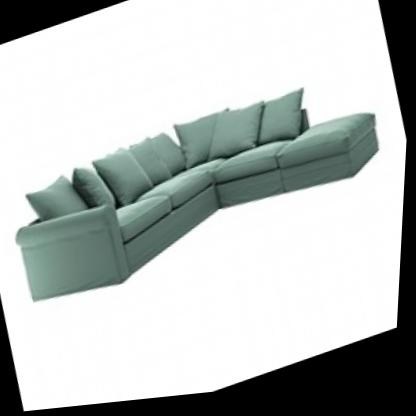Sofa: (0, 50, 398, 323)
